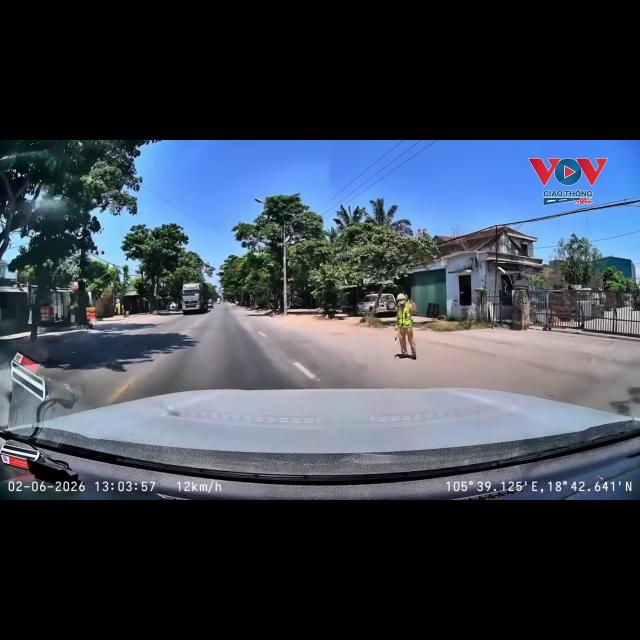car: (366, 294, 398, 312)
truck: (182, 283, 207, 314)
